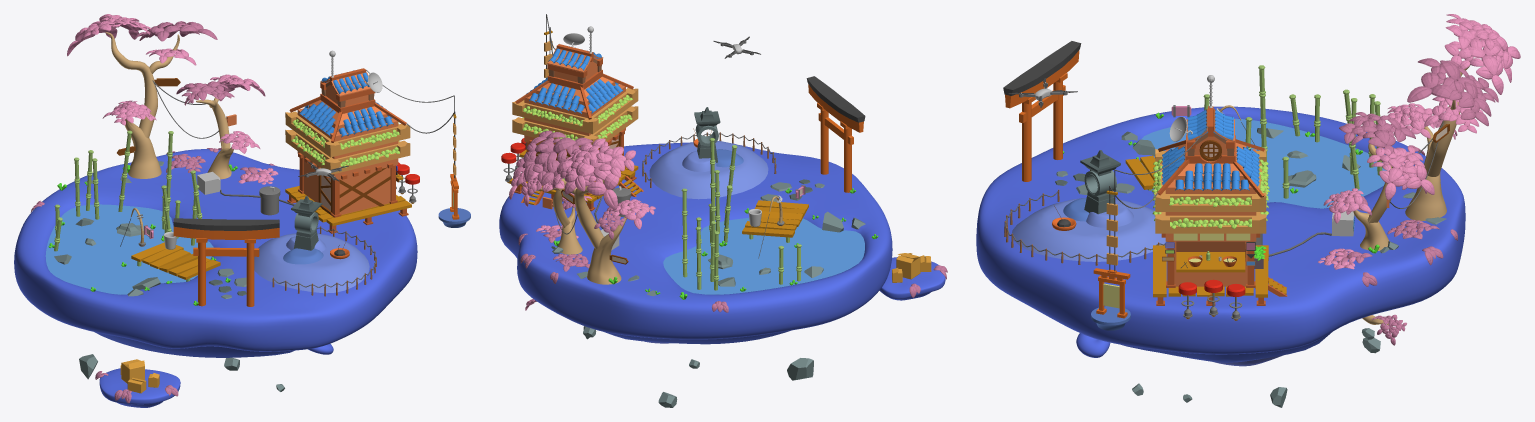
File: japan-island2.glb
3 renders of one model, left to right at view 1: azimuth 30°, elevation 25°; view 2: azimuth 150°, elevation 25°; view 3: azimuth 270°, elevation 25°, orthographic. The views are drawn at different scales.
Visible parts, largest first — view 1: base, house, water, leaf, land-2, bamboo, door, tree, rock, altar, signal, box (+3 smaller); view 2: base, house, water, leaf, land-2, bamboo, tree, door, rock, altar, box, feends (+3 smaller); view 3: base, house, leaf, water, land-2, door, tree, bamboo, rock, signal, altar, chest (+1 smaller).
Part boxes in pixels (x1,y1,x2,y2): base: (14,149,417,407); house: (152,50,454,233); water: (45,204,213,294); leaf: (30,14,278,403); land-2: (254,233,369,293); bamboo: (54,130,220,281); door: (173,218,279,306); tree: (105,32,233,179); rock: (54,161,284,391); altar: (291,196,349,259); signal: (438,95,470,227); box: (120,359,159,393); base: (499,142,945,344); house: (509,14,643,250); water: (663,218,864,294); leaf: (509,130,947,312); land-2: (649,141,768,199); bamboo: (681,138,808,290); tree: (536,179,630,284); door: (806,76,865,192); rock: (551,179,865,407); altar: (693,107,720,162); box: (892,253,931,282); feends: (642,132,776,187); base: (976,106,1465,366); house: (1109,75,1443,305); leaf: (1318,14,1520,345); water: (1141,118,1386,208); land-2: (1012,197,1165,261); door: (1003,41,1081,181); tree: (1353,57,1473,324); bamboo: (1125,65,1382,198); rock: (1055,128,1446,407); signal: (1091,170,1130,330); altar: (1052,150,1120,230); chest: (1178,279,1245,319).
Bounding box in the file's own units: 9.43 × 7.03 × 9.42.
